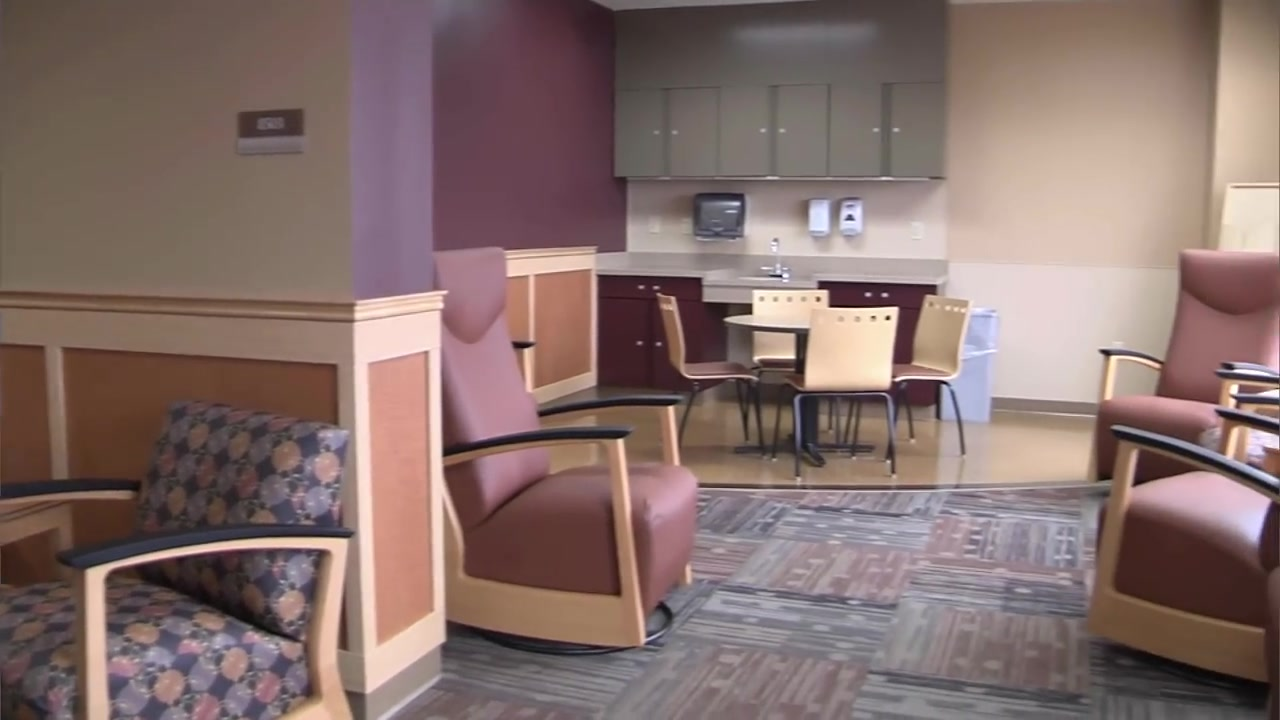cabinet: (829, 88, 942, 176), (717, 88, 830, 176), (604, 87, 716, 175)
chair: (768, 306, 898, 482), (842, 294, 973, 464), (655, 292, 769, 459), (744, 289, 833, 435)
counter: (828, 288, 941, 393), (594, 273, 706, 378)
countertop: (597, 262, 713, 279), (816, 271, 953, 285)
dispenser: (692, 191, 746, 242), (838, 198, 864, 236), (806, 199, 831, 238)
faucet: (760, 238, 791, 276)
handle: (651, 125, 663, 138), (878, 291, 890, 303), (868, 125, 880, 137), (862, 289, 873, 300), (891, 123, 901, 135), (778, 126, 788, 137), (758, 125, 768, 136), (637, 282, 647, 292), (635, 339, 645, 349), (653, 283, 665, 291), (671, 128, 679, 138), (654, 339, 661, 349)
sink: (728, 277, 799, 286)
sofa: (1, 398, 356, 720), (430, 246, 698, 656), (1094, 405, 1280, 720), (1086, 248, 1280, 499), (1195, 368, 1280, 478)
table: (722, 313, 876, 468), (1, 501, 72, 580)
waste_bin: (940, 307, 1001, 423)
